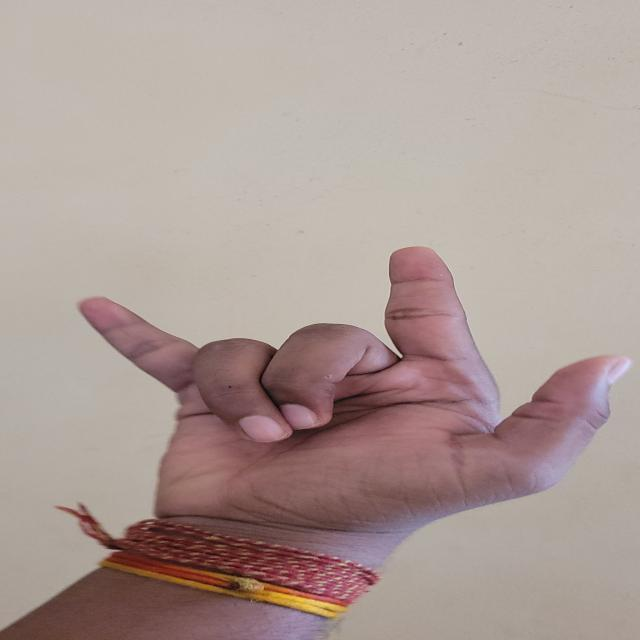i like you: (50, 235, 633, 585)
